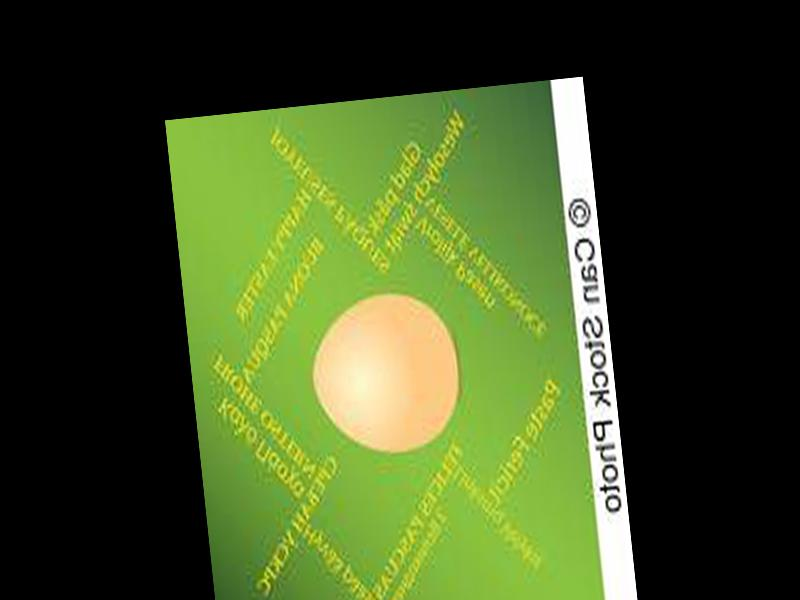Eggs: (305, 288, 465, 457)
